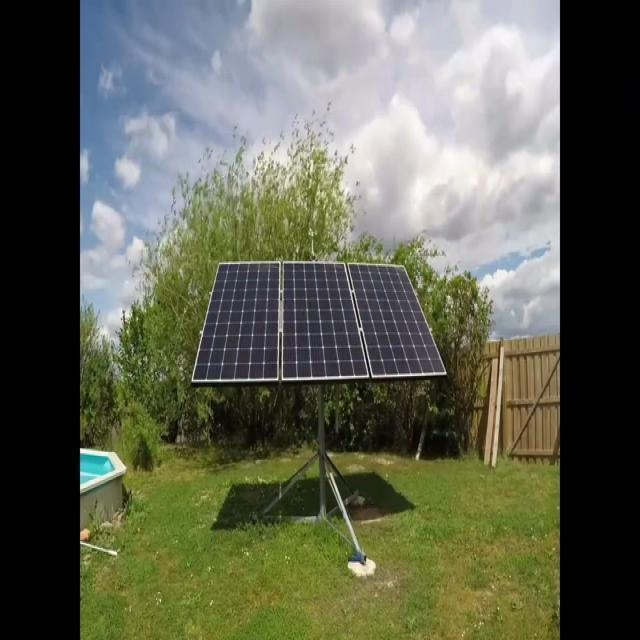Normal Solar Panel: (349, 264, 447, 379), (193, 264, 282, 384), (283, 264, 369, 381)
